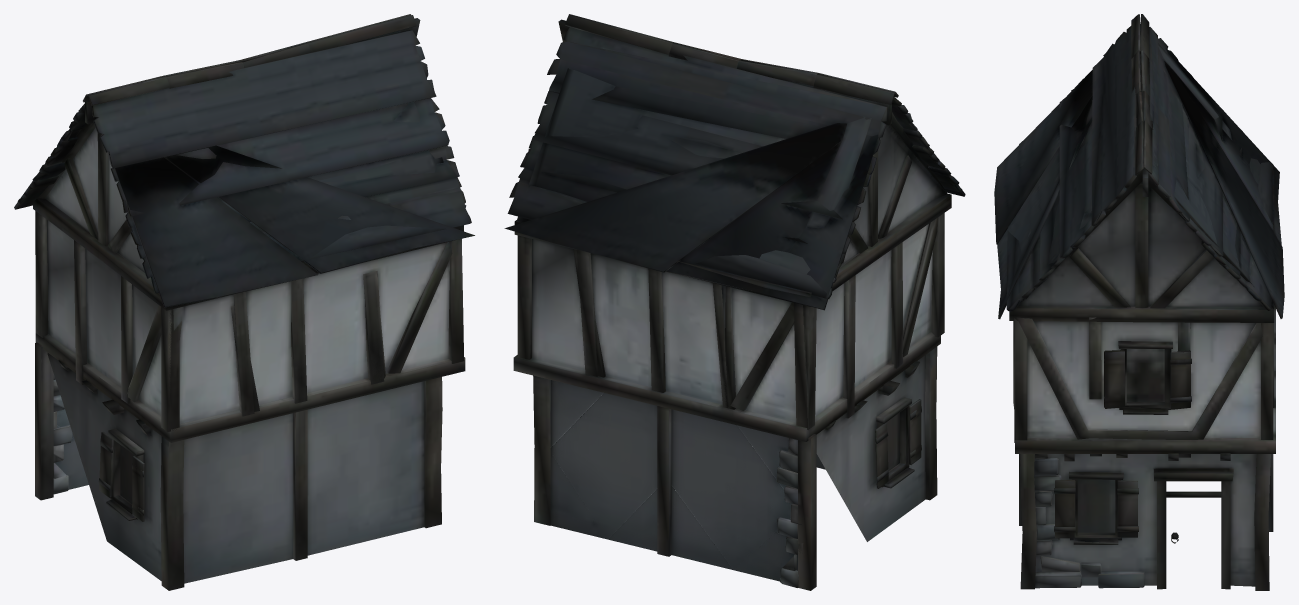
File: city_house.glb
3 views of the same model, side by side, from view 1: azimuth 30°, elevation 25°; view 2: azimuth 150°, elevation 25°; view 3: azimuth 270°, elevation 25° (orthographic). The views are drawn at different scales.
Visible parts, largest first — view 1: model; view 2: model; view 3: model.
Part boxes in pixels (<box>): model: <box>14,14,474,590</box>; model: <box>504,14,965,590</box>; model: <box>994,14,1284,590</box>.
Bounding box in the file's own units: 0.773 × 1 × 0.6008.
1 material, 1 textured.
